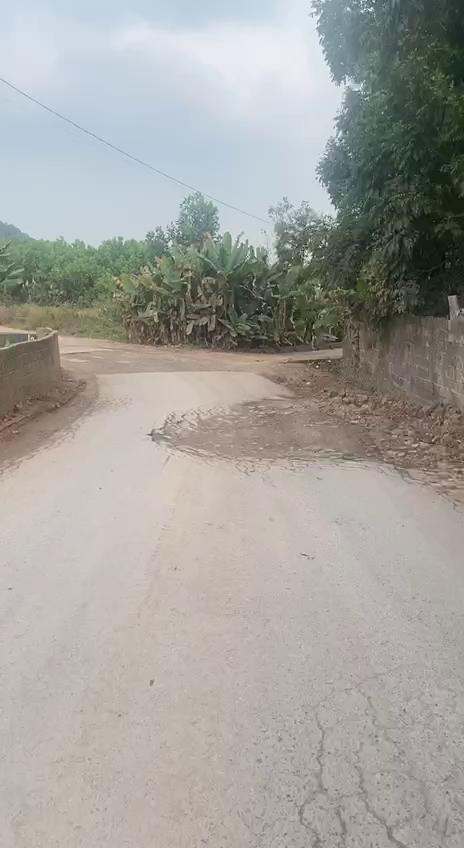pothole: (156, 394, 380, 468)
